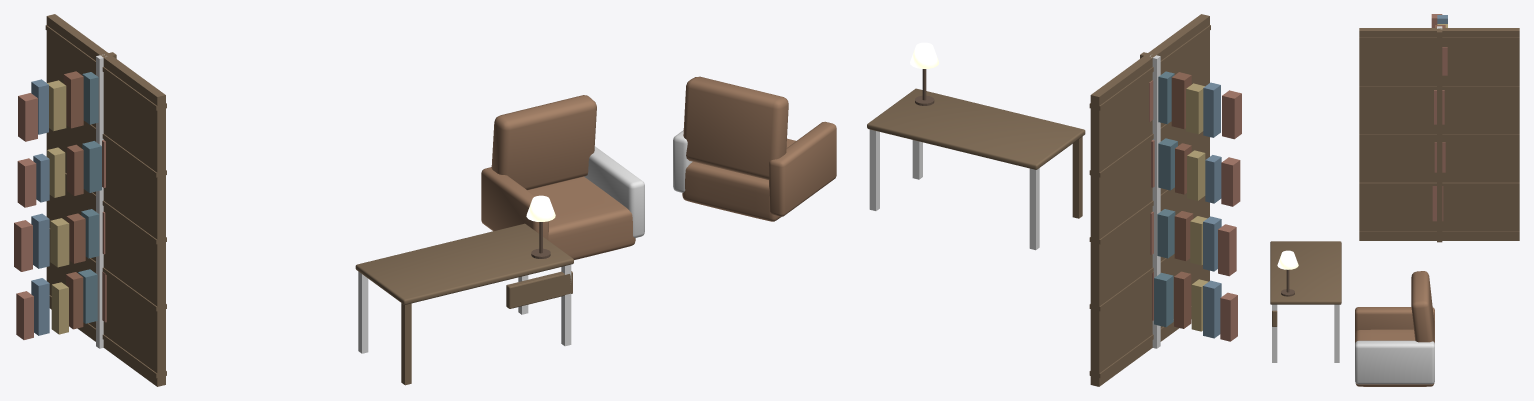
The model's file is study.glb.
3 views of the same model, side by side, from view 1: azimuth 30°, elevation 25°; view 2: azimuth 150°, elevation 25°; view 3: azimuth 270°, elevation 25° (orthographic). The views are drawn at different scales.
Parts seen in each view (by area): view 1: ShelfBack, DeskTop, ArmchairBack, ArmchairSeat, ArmchairArm, ArmchairArm.001, DeskDrawer, ShelfSide.001, Book_2.05_3, Book_1.45_4, Book_0.25_1, Book_0.85_0 (+21 smaller); view 2: ShelfBack, DeskTop, ArmchairBack, ArmchairArm, ArmchairSeat, ShelfSide.001, Book_0.25_4, Book_0.25_1, Book_0.25_3, Book_2.05_1, Book_0.85_0, Book_1.45_0 (+20 smaller); view 3: ShelfBack, DeskTop, ArmchairArm.001, ArmchairBack, ArmchairArm, ShelfSide, ArmchairSeat, Shelf_7, Shelf_1, Shelf_13, Shelf_19, Shelf_25 (+4 smaller).
Boxes of the visible parts, <box> form: ShelfBack: <box>46,14,165,386</box>; DeskTop: <box>355,223,573,304</box>; ArmchairBack: <box>491,95,596,190</box>; ArmchairSeat: <box>528,176,635,259</box>; ArmchairArm: <box>481,167,548,239</box>; ArmchairArm.001: <box>584,146,644,237</box>; DeskDrawer: <box>506,271,572,308</box>; ShelfSide.001: <box>96,54,106,348</box>; Book_2.05_3: <box>63,71,83,128</box>; Book_1.45_4: <box>82,141,101,192</box>; Book_0.25_1: <box>31,278,49,335</box>; Book_0.85_0: <box>14,220,32,271</box>; ShelfBack: <box>1090,14,1209,386</box>; DeskTop: <box>867,88,1085,169</box>; ArmchairBack: <box>683,76,788,179</box>; ArmchairArm: <box>769,121,836,216</box>; ArmchairSeat: <box>682,138,795,221</box>; ShelfSide.001: <box>1150,55,1160,348</box>; Book_0.25_4: <box>1154,272,1173,327</box>; Book_0.25_1: <box>1203,280,1221,338</box>; Book_0.25_3: <box>1174,271,1191,328</box>; Book_2.05_1: <box>1203,82,1220,137</box>; Book_0.85_0: <box>1218,224,1236,276</box>; Book_1.45_0: <box>1221,157,1240,206</box>; ShelfBack: <box>1359,28,1519,240</box>; DeskTop: <box>1270,241,1341,304</box>; ArmchairArm.001: <box>1355,340,1434,384</box>; ArmchairBack: <box>1411,271,1434,342</box>; ArmchairArm: <box>1355,307,1434,336</box>; ShelfSide: <box>1437,29,1442,242</box>; ArmchairSeat: <box>1355,329,1434,386</box>; Shelf_7: <box>1359,182,1519,186</box>; Shelf_1: <box>1359,231,1519,234</box>; Shelf_13: <box>1359,134,1519,137</box>; Shelf_19: <box>1359,86,1519,89</box>; Shelf_25: <box>1359,37,1519,40</box>.
Size of the model in its own units: 5.33 by 2.6 by 2.8.
